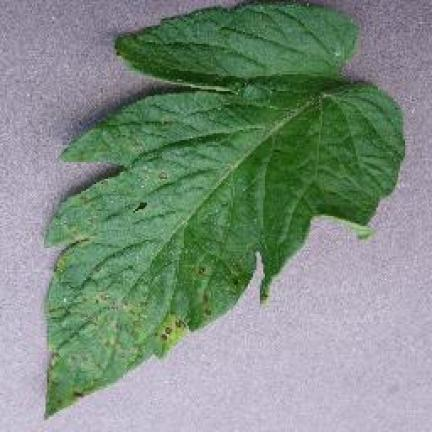disease: (47, 5, 402, 413)
leaf: (160, 118, 167, 123)
